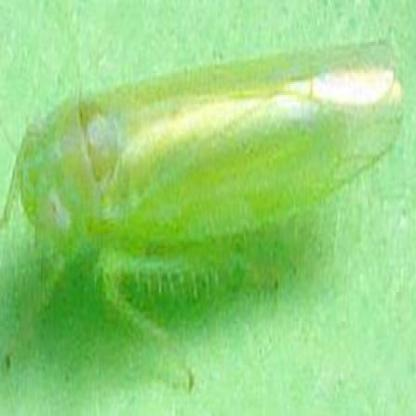green-leafhopper: (22, 53, 397, 254)
